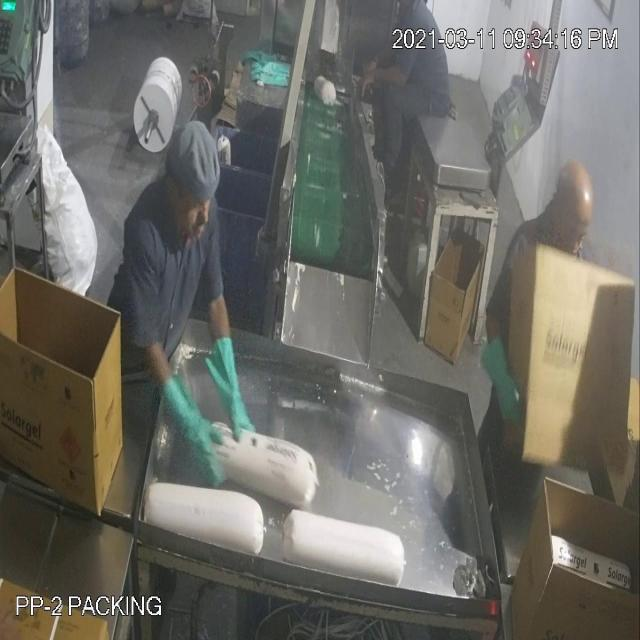No_Gloves: (50, 46, 502, 431)
